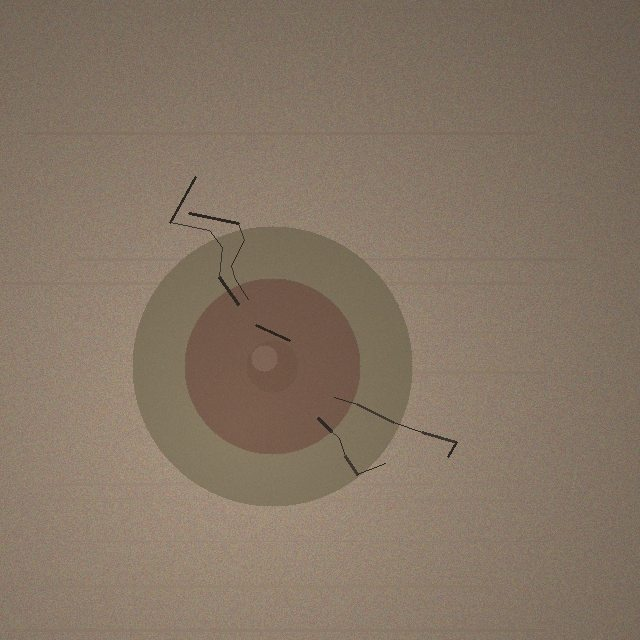crack: (132, 226, 412, 506)
